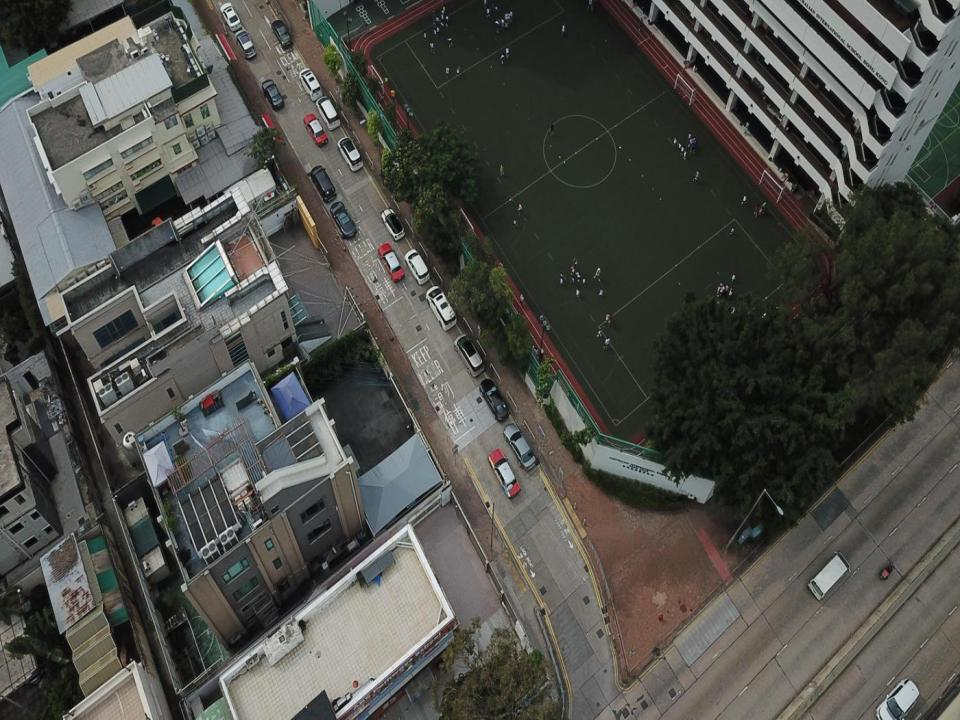car: (808, 552, 849, 599), (876, 678, 919, 719), (488, 448, 520, 499), (503, 423, 536, 472), (480, 378, 510, 422), (377, 242, 405, 282), (330, 201, 356, 239), (303, 113, 328, 146), (382, 208, 406, 240), (262, 78, 284, 110), (220, 2, 241, 31), (235, 29, 255, 58), (272, 19, 292, 48)
van: (426, 286, 457, 332), (454, 334, 485, 378), (310, 165, 336, 203), (337, 137, 363, 172), (405, 250, 430, 285), (316, 96, 340, 130), (299, 68, 322, 100)
